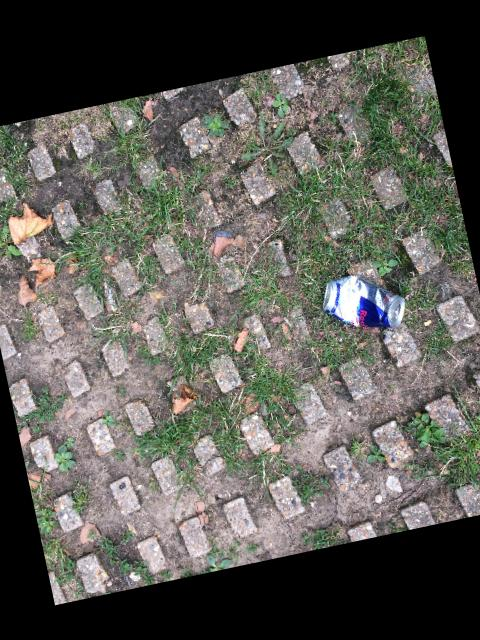metal: (322, 276, 404, 328)
